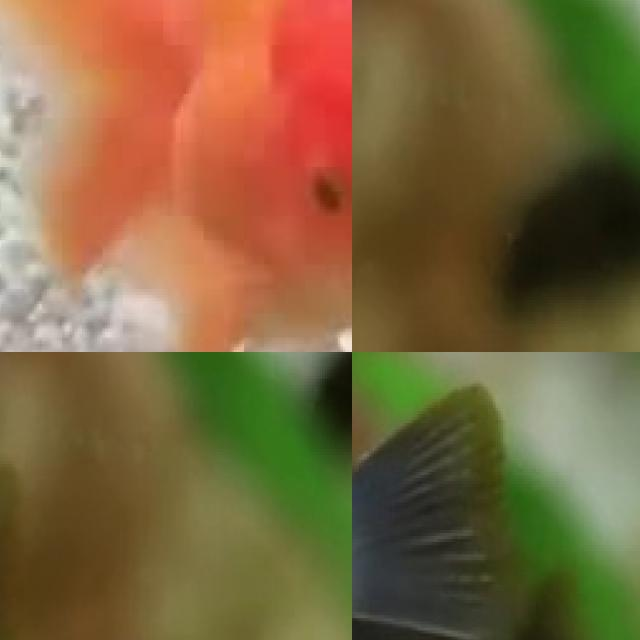fish: (0, 0, 352, 352), (352, 352, 566, 640)
